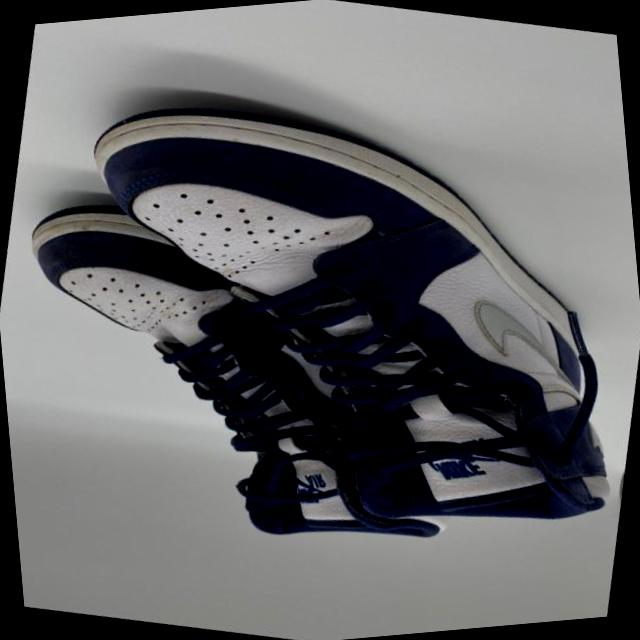nike_original_jordan: (9, 43, 640, 589), (0, 153, 513, 592)
